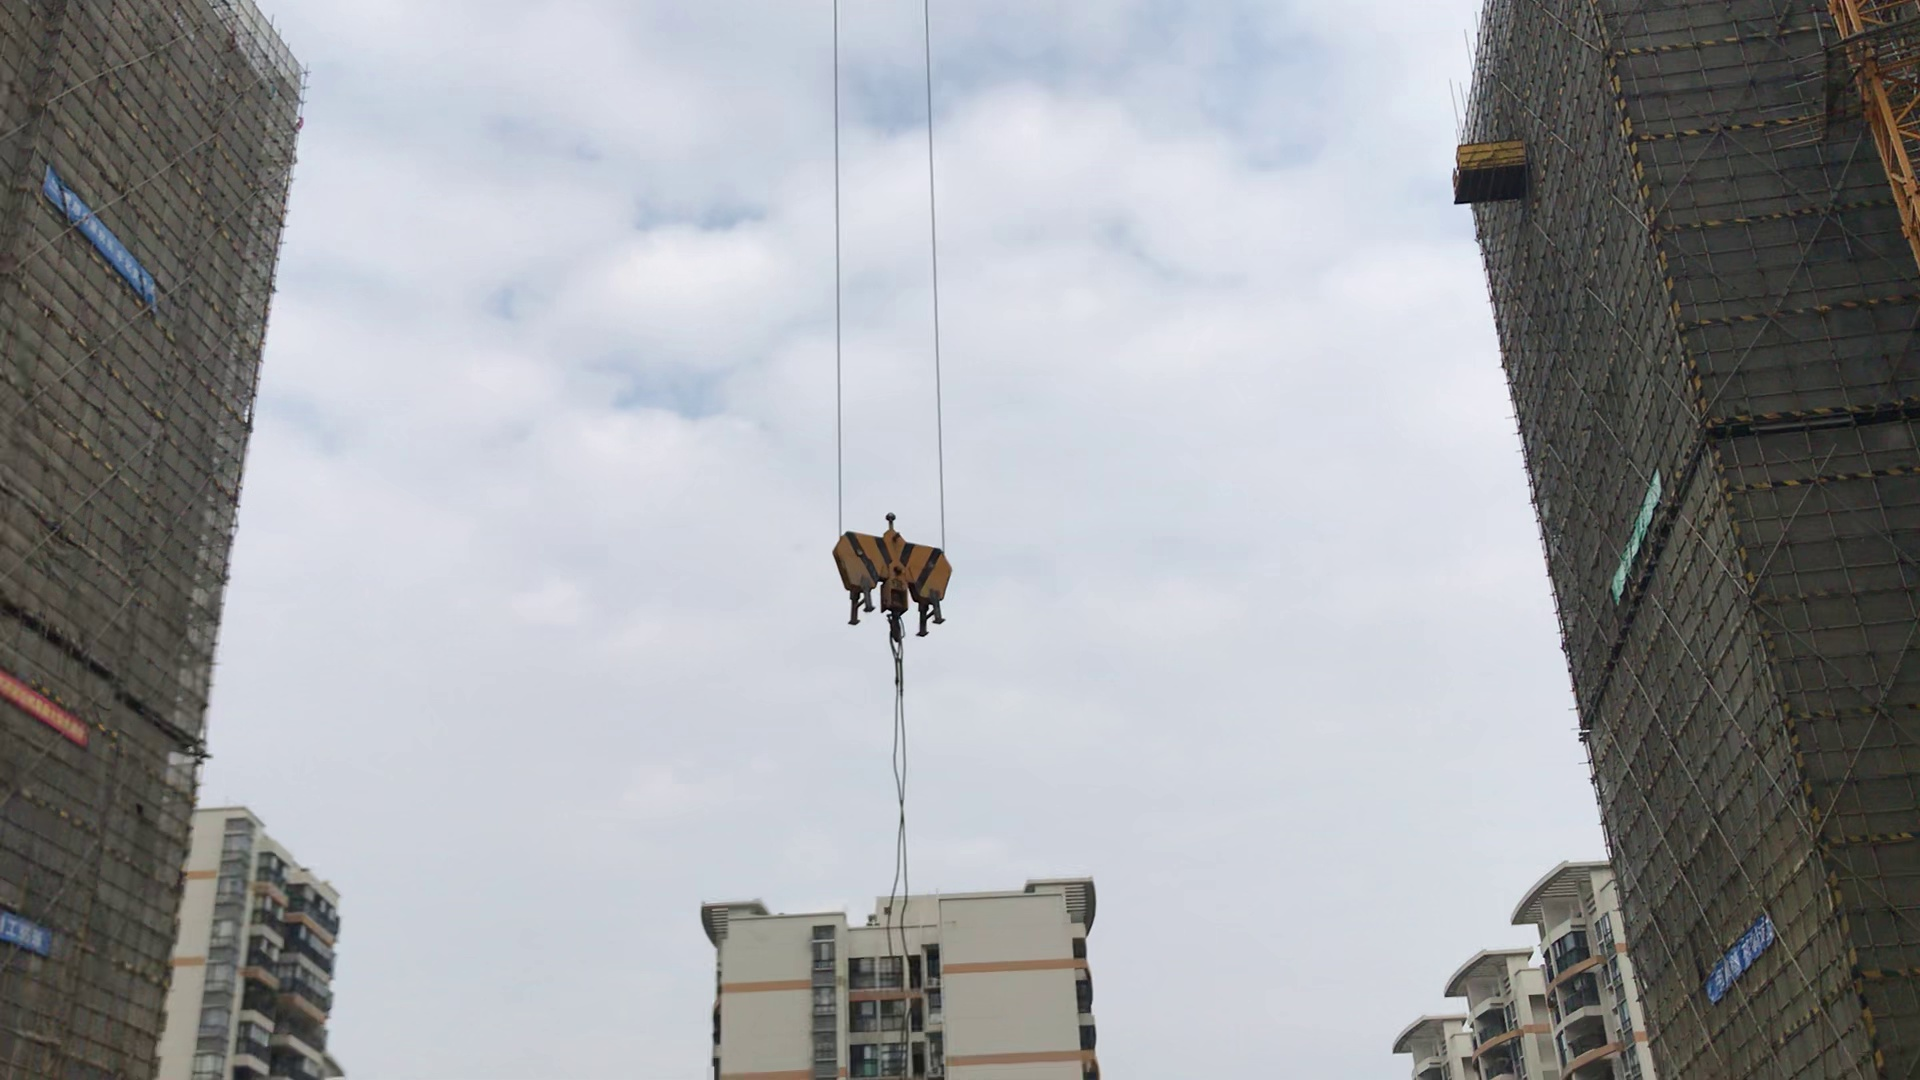hook: (823, 508, 961, 636)
slogan: (34, 170, 164, 305), (1613, 476, 1676, 608), (1, 665, 102, 741), (1712, 924, 1779, 1007), (1, 903, 69, 961)
